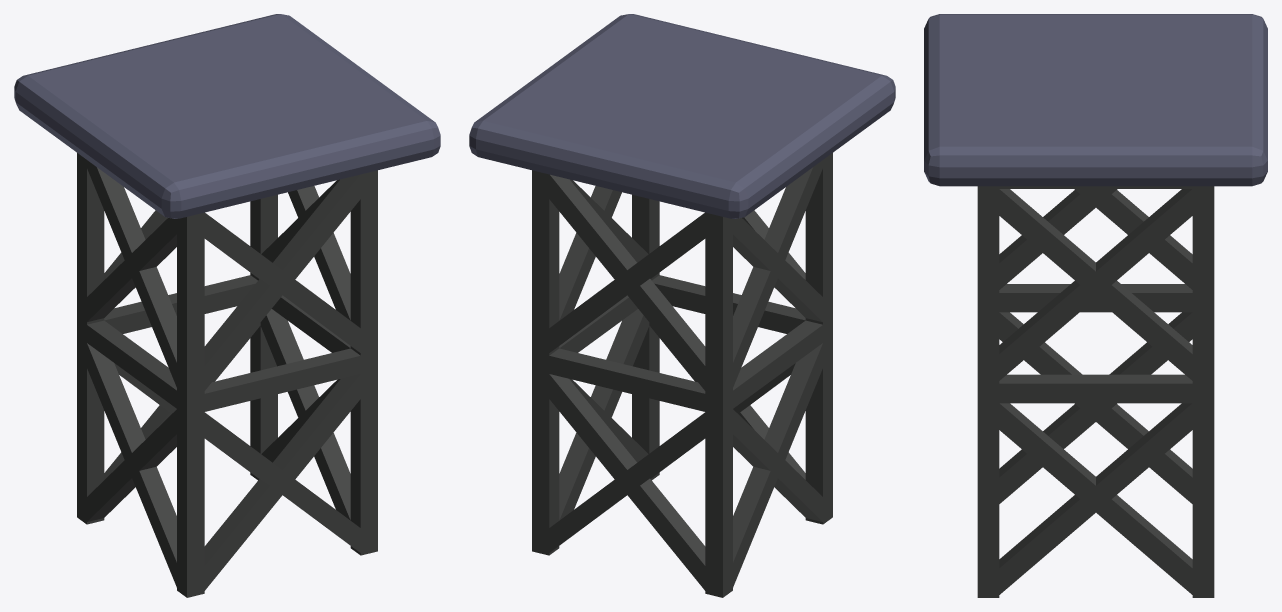
File: HospitalTower.fbx
3 renders of one model, left to right at view 1: azimuth 30°, elevation 25°; view 2: azimuth 150°, elevation 25°; view 3: azimuth 270°, elevation 25°, orthographic. The views are drawn at different scales.
Parts seen in each view (by area): view 1: Cube.036, Cube.008, Cube.024, Cube.010, Cube.005, Cube.020, Cube.027, Cube.025, Cube.003, Cube.018, Cube.012, Cube.016 (+16 smaller); view 2: Cube.036, Cube.009, Cube.026, Cube.013, Cube.030, Cube.006, Cube.021, Cube.019, Cube.017, Cube.023, Cube.004, Cube.002 (+16 smaller); view 3: Cube.036, Cube.012, Cube.014, Cube.029, Cube.015, Cube.031, Cube.018, Cube.019, Cube.010, Cube.013, Cube.003, Cube.004 (+4 smaller).
Boxes of the visible parts, x1,y1,x2,y2 form: Cube.036: (14,14,440,218); Cube.008: (204,374,372,590); Cube.024: (204,174,372,390); Cube.010: (80,343,176,587); Cube.005: (177,409,204,597); Cube.020: (177,212,204,397); Cube.027: (82,157,176,387); Cube.025: (204,348,360,411); Cube.003: (350,370,377,555); Cube.018: (350,170,377,355); Cube.012: (260,309,350,520); Cube.016: (77,318,204,416); Cube.036: (469,14,895,218); Cube.009: (537,374,705,590); Cube.026: (539,174,719,393); Cube.013: (724,343,822,591); Cube.030: (724,157,827,391); Cube.006: (705,409,732,597); Cube.021: (705,213,732,397); Cube.019: (532,170,559,355); Cube.017: (549,348,705,411); Cube.023: (549,212,717,352); Cube.004: (532,370,559,555); Cube.002: (534,412,716,554); Cube.036: (924,14,1267,186); Cube.012: (981,403,1207,597); Cube.014: (984,403,1210,597); Cube.029: (999,189,1192,380); Cube.015: (977,374,1214,403); Cube.031: (999,189,1192,380); Cube.018: (977,189,999,383); Cube.019: (1192,189,1214,383); Cube.010: (999,312,1192,503); Cube.013: (999,312,1192,503); Cube.003: (977,403,999,597); Cube.004: (1192,403,1214,597).
Bounding box in the file's own units: 4.16 × 6.24 × 4.16.
Materials: 1 (1 with a texture image).
